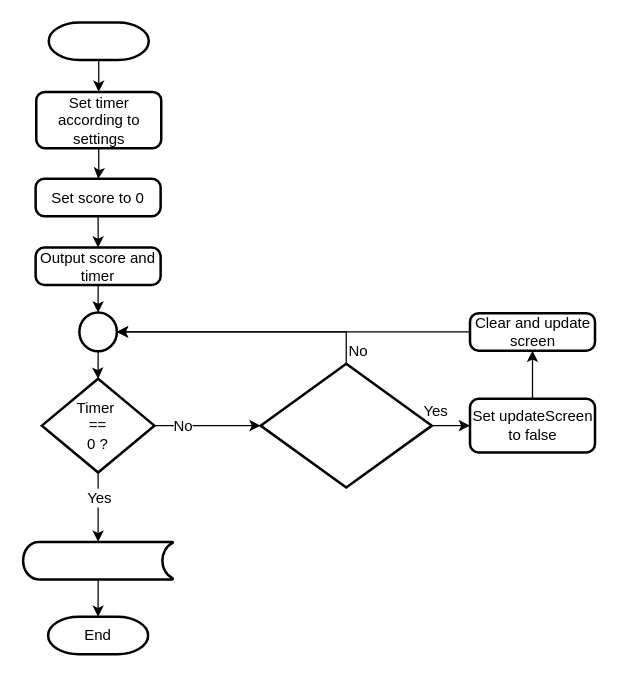
Image size: 618x678. Some labels were removed from this diagram. The centre of each missing label's shape, as x and y in pixels:
isUpdateScreen == true ?: the point at 345,425
Save score to persistent storage: the point at 97,560
Start: the point at 98,41
